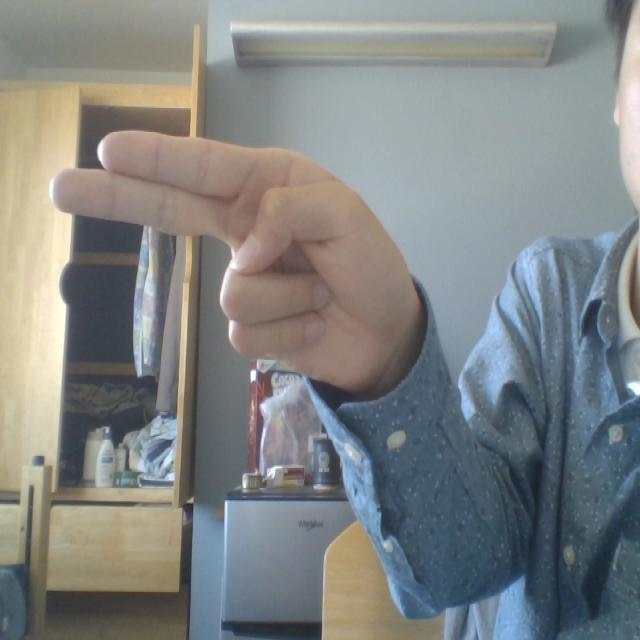H: (42, 96, 474, 429)
